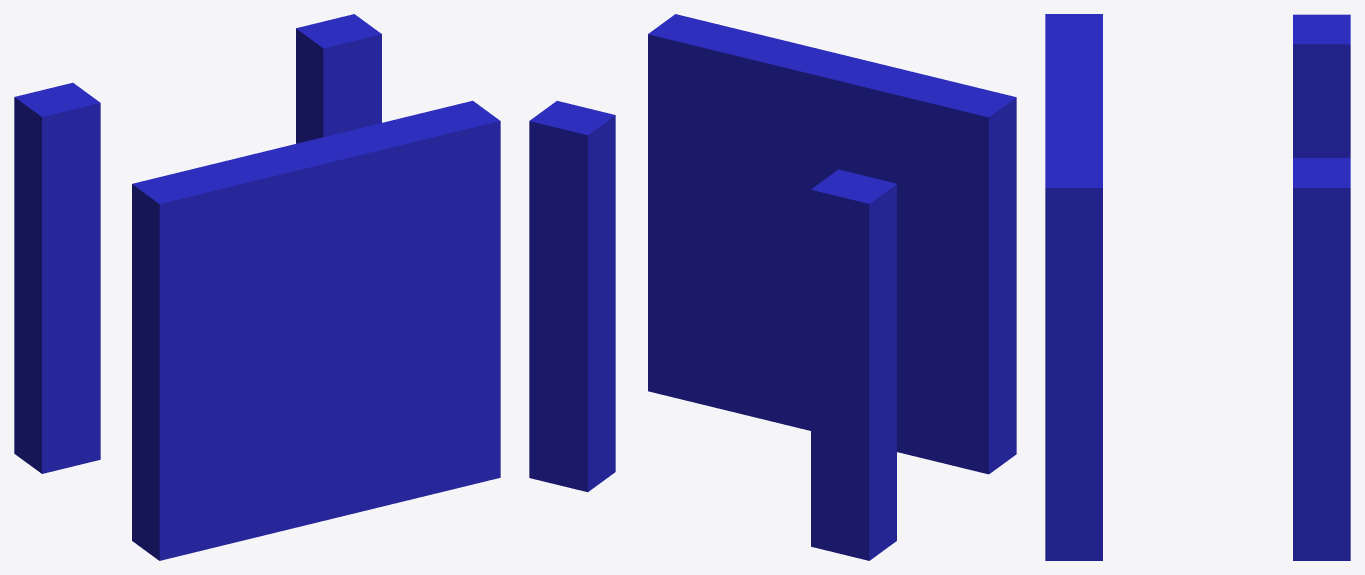
Rendered from wall_close_2.glb.
3 renders of one model, left to right at view 1: azimuth 30°, elevation 25°; view 2: azimuth 150°, elevation 25°; view 3: azimuth 270°, elevation 25°, orthographic. The views are drawn at different scales.
Parts seen in each view (by area): view 1: wall_close_2; view 2: wall_close_2; view 3: wall_close_2.
Part boxes in pixels (x1,y1,x2,y2): wall_close_2: (14, 14, 500, 560); wall_close_2: (529, 14, 1016, 560); wall_close_2: (1045, 14, 1350, 560).
Size of the model in its own units: 2 by 2 by 1.48.
